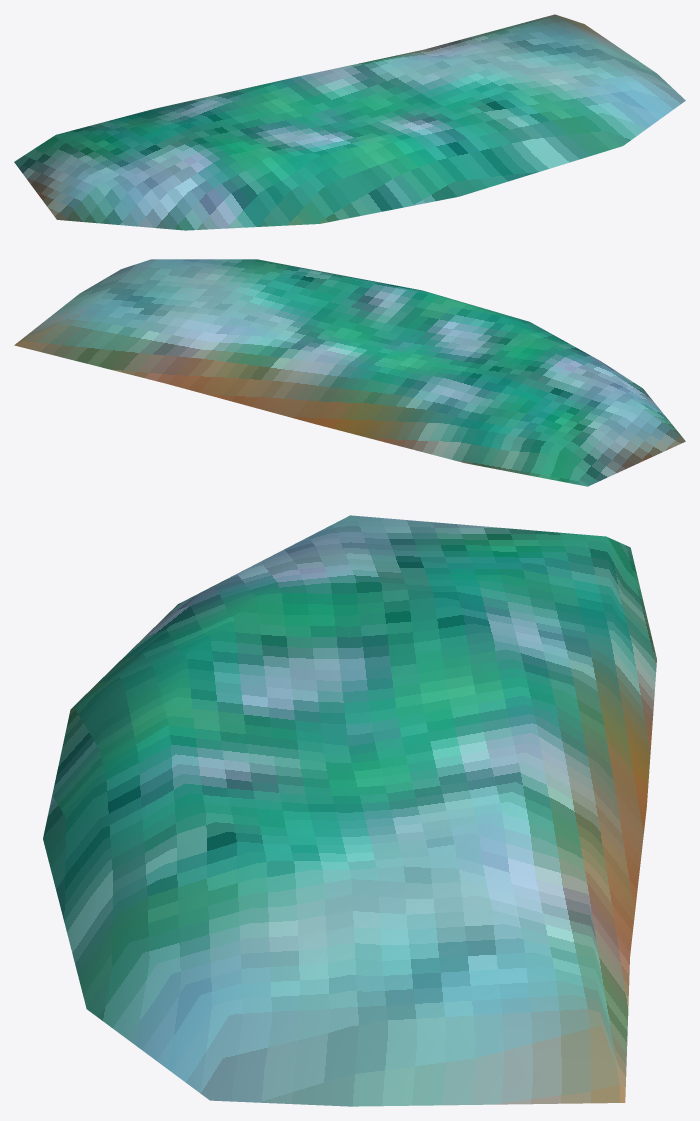
File: clothes.glb
3 views of the same model, one above another, from view 1: azimuth 30°, elevation 25°; view 2: azimuth 150°, elevation 25°; view 3: azimuth 270°, elevation 25° (orthographic). The views are drawn at different scales.
Visible parts, largest first — view 1: clothes.ms3d.mo; view 2: clothes.ms3d.mo; view 3: clothes.ms3d.mo.
Part boxes in pixels (box(x1,y1,x2,y2)): clothes.ms3d.mo: box(14, 14, 685, 230); clothes.ms3d.mo: box(14, 259, 685, 486); clothes.ms3d.mo: box(43, 515, 656, 1106).
Bounding box in the file's own units: 64.25 × 4.05 × 28.47.
Materials: 1 (1 with a texture image).
